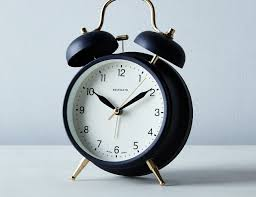alarm_clock: (58, 29, 193, 184)
